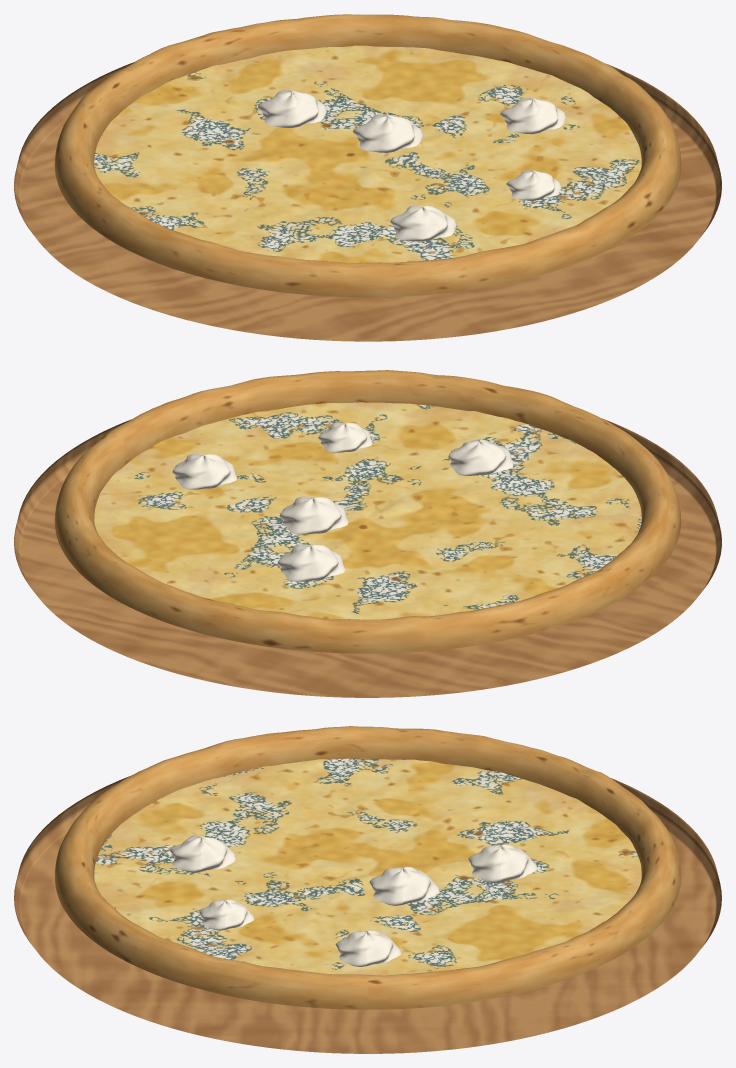
Rendered from pizza-quatro-queijos.glb.
3 views of the same model, one above another, from view 1: azimuth 30°, elevation 25°; view 2: azimuth 150°, elevation 25°; view 3: azimuth 270°, elevation 25° (orthographic).
Visible parts, largest first — view 1: pizza-quatro-queijos; view 2: pizza-quatro-queijos; view 3: pizza-quatro-queijos.
Part boxes in pixels (x1,y1,x2,y2): pizza-quatro-queijos: (14,14,721,341); pizza-quatro-queijos: (14,370,721,697); pizza-quatro-queijos: (14,726,721,1053).
Size of the model in its own units: 0.432 by 0.0402 by 0.432.
4 materials, 3 textured.
